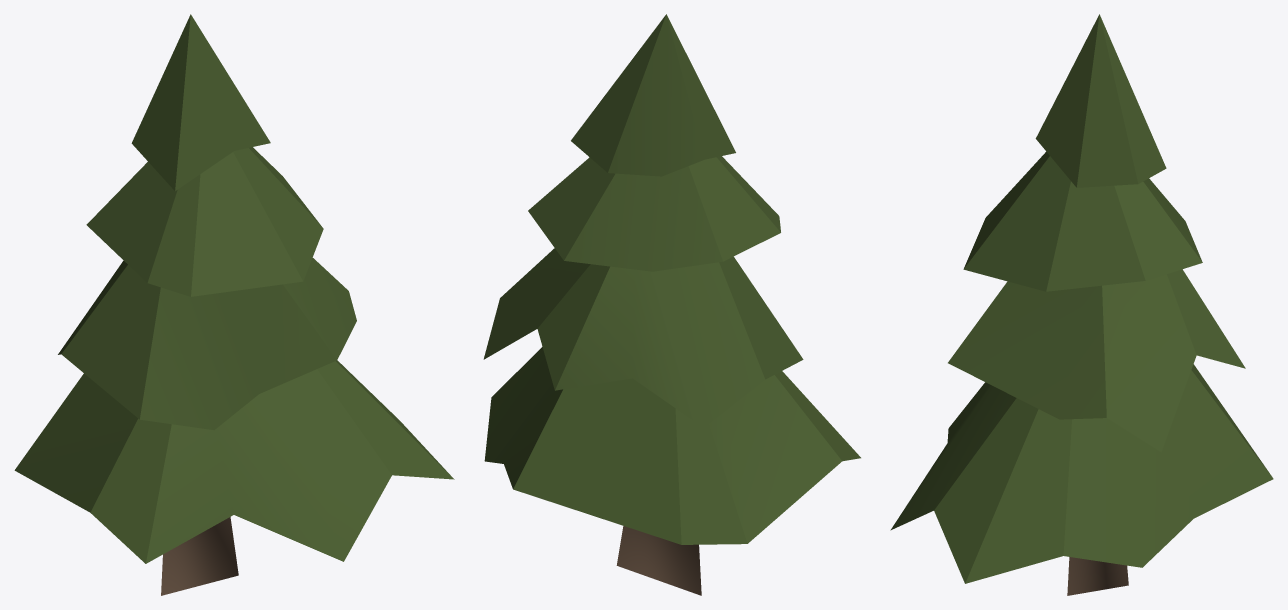
The model's file is GrantræLOD1.fbx.
3 renders of one model, left to right at view 1: azimuth 30°, elevation 25°; view 2: azimuth 150°, elevation 25°; view 3: azimuth 270°, elevation 25°, orthographic.
Parts seen in each view (by area): view 1: Circle.003, Vert.002; view 2: Circle.003, Vert.002; view 3: Circle.003, Vert.002.
Boxes of the visible parts, <box> form: Circle.003: <box>14,14,454,563</box>; Vert.002: <box>161,517,238,595</box>; Circle.003: <box>483,14,860,544</box>; Vert.002: <box>616,526,701,595</box>; Circle.003: <box>890,14,1273,583</box>; Vert.002: <box>1067,557,1128,595</box>.
Size of the model in its own units: 253 by 413 by 247.
